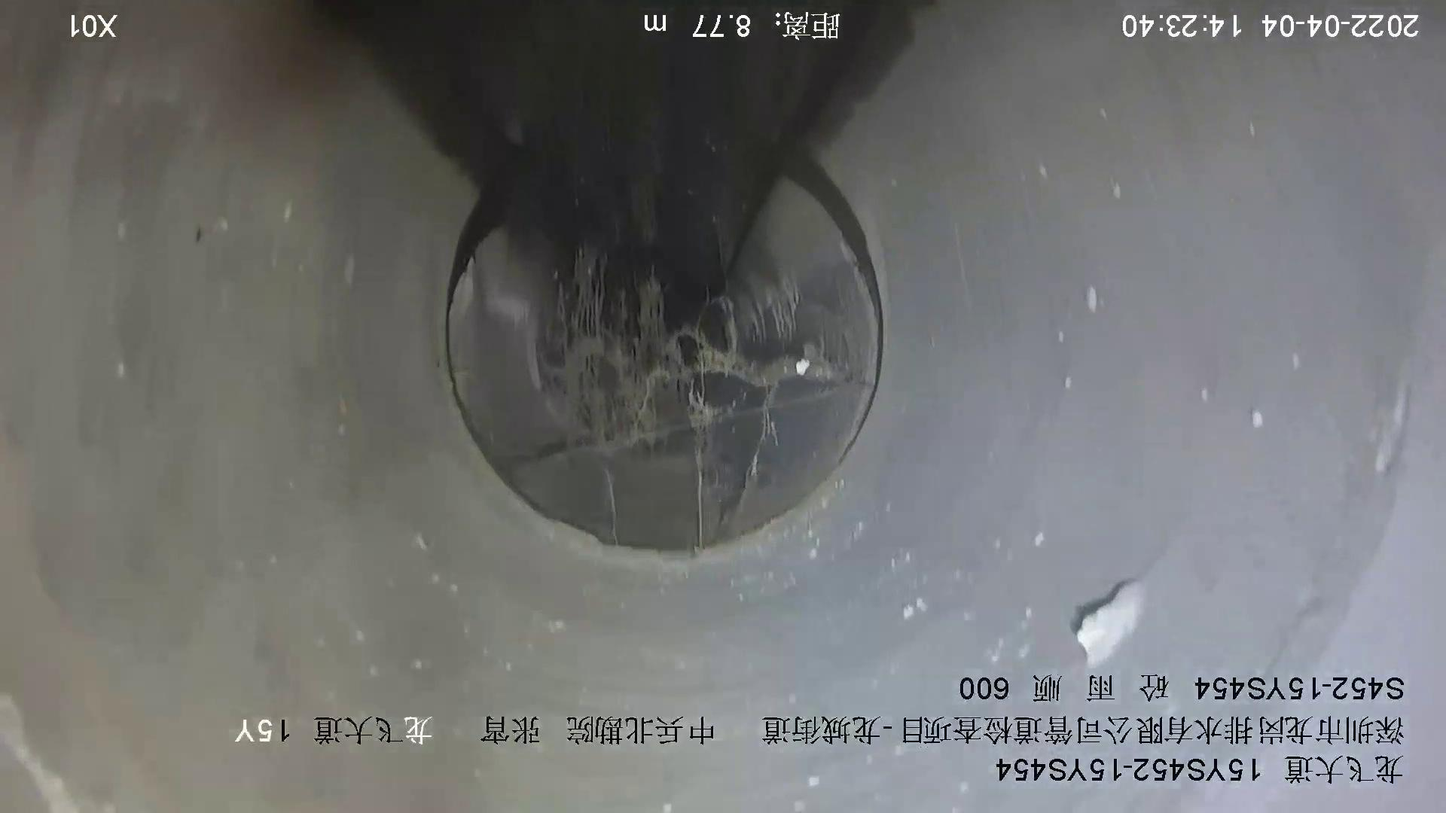SG: (499, 255, 868, 553)
